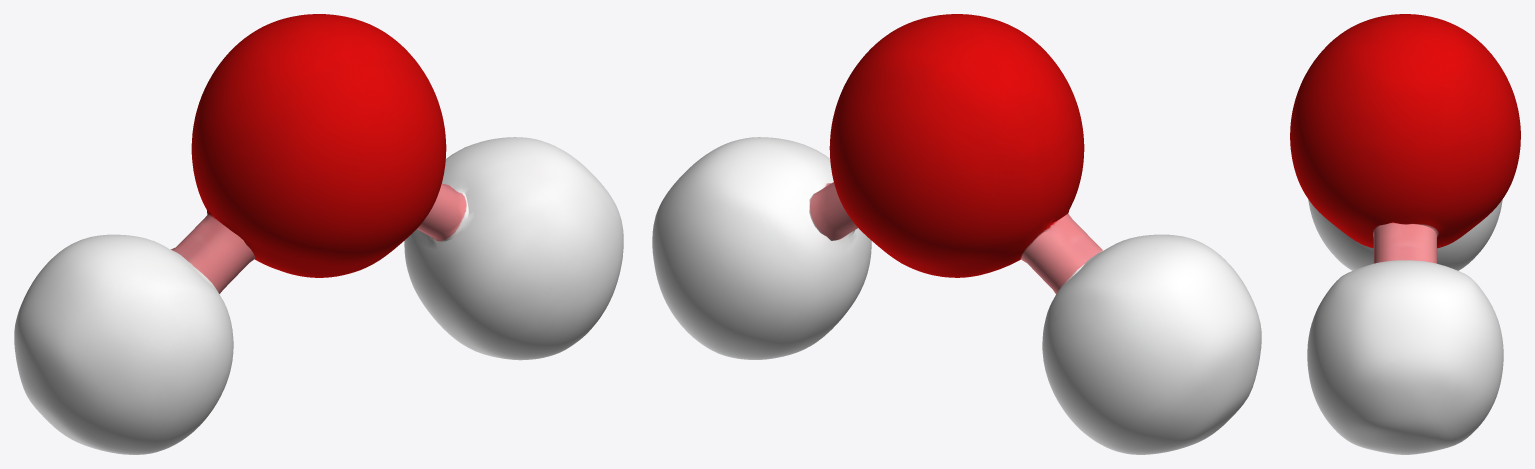
The model's file is Meshy_AI_h20_molecule_0407064326_texture.fbx.
3 views of the same model, side by side, from view 1: azimuth 30°, elevation 25°; view 2: azimuth 150°, elevation 25°; view 3: azimuth 270°, elevation 25° (orthographic). The views are drawn at different scales.
Parts seen in each view (by area): view 1: output; view 2: output; view 3: output.
Part boxes in pixels (x1=…): output: x1=14, y1=14, x2=623, y2=454; output: x1=652, y1=14, x2=1261, y2=454; output: x1=1290, y1=14, x2=1520, y2=454.
Bounding box in the file's own units: 191 × 116 × 72.78.
1 material, 1 textured.
